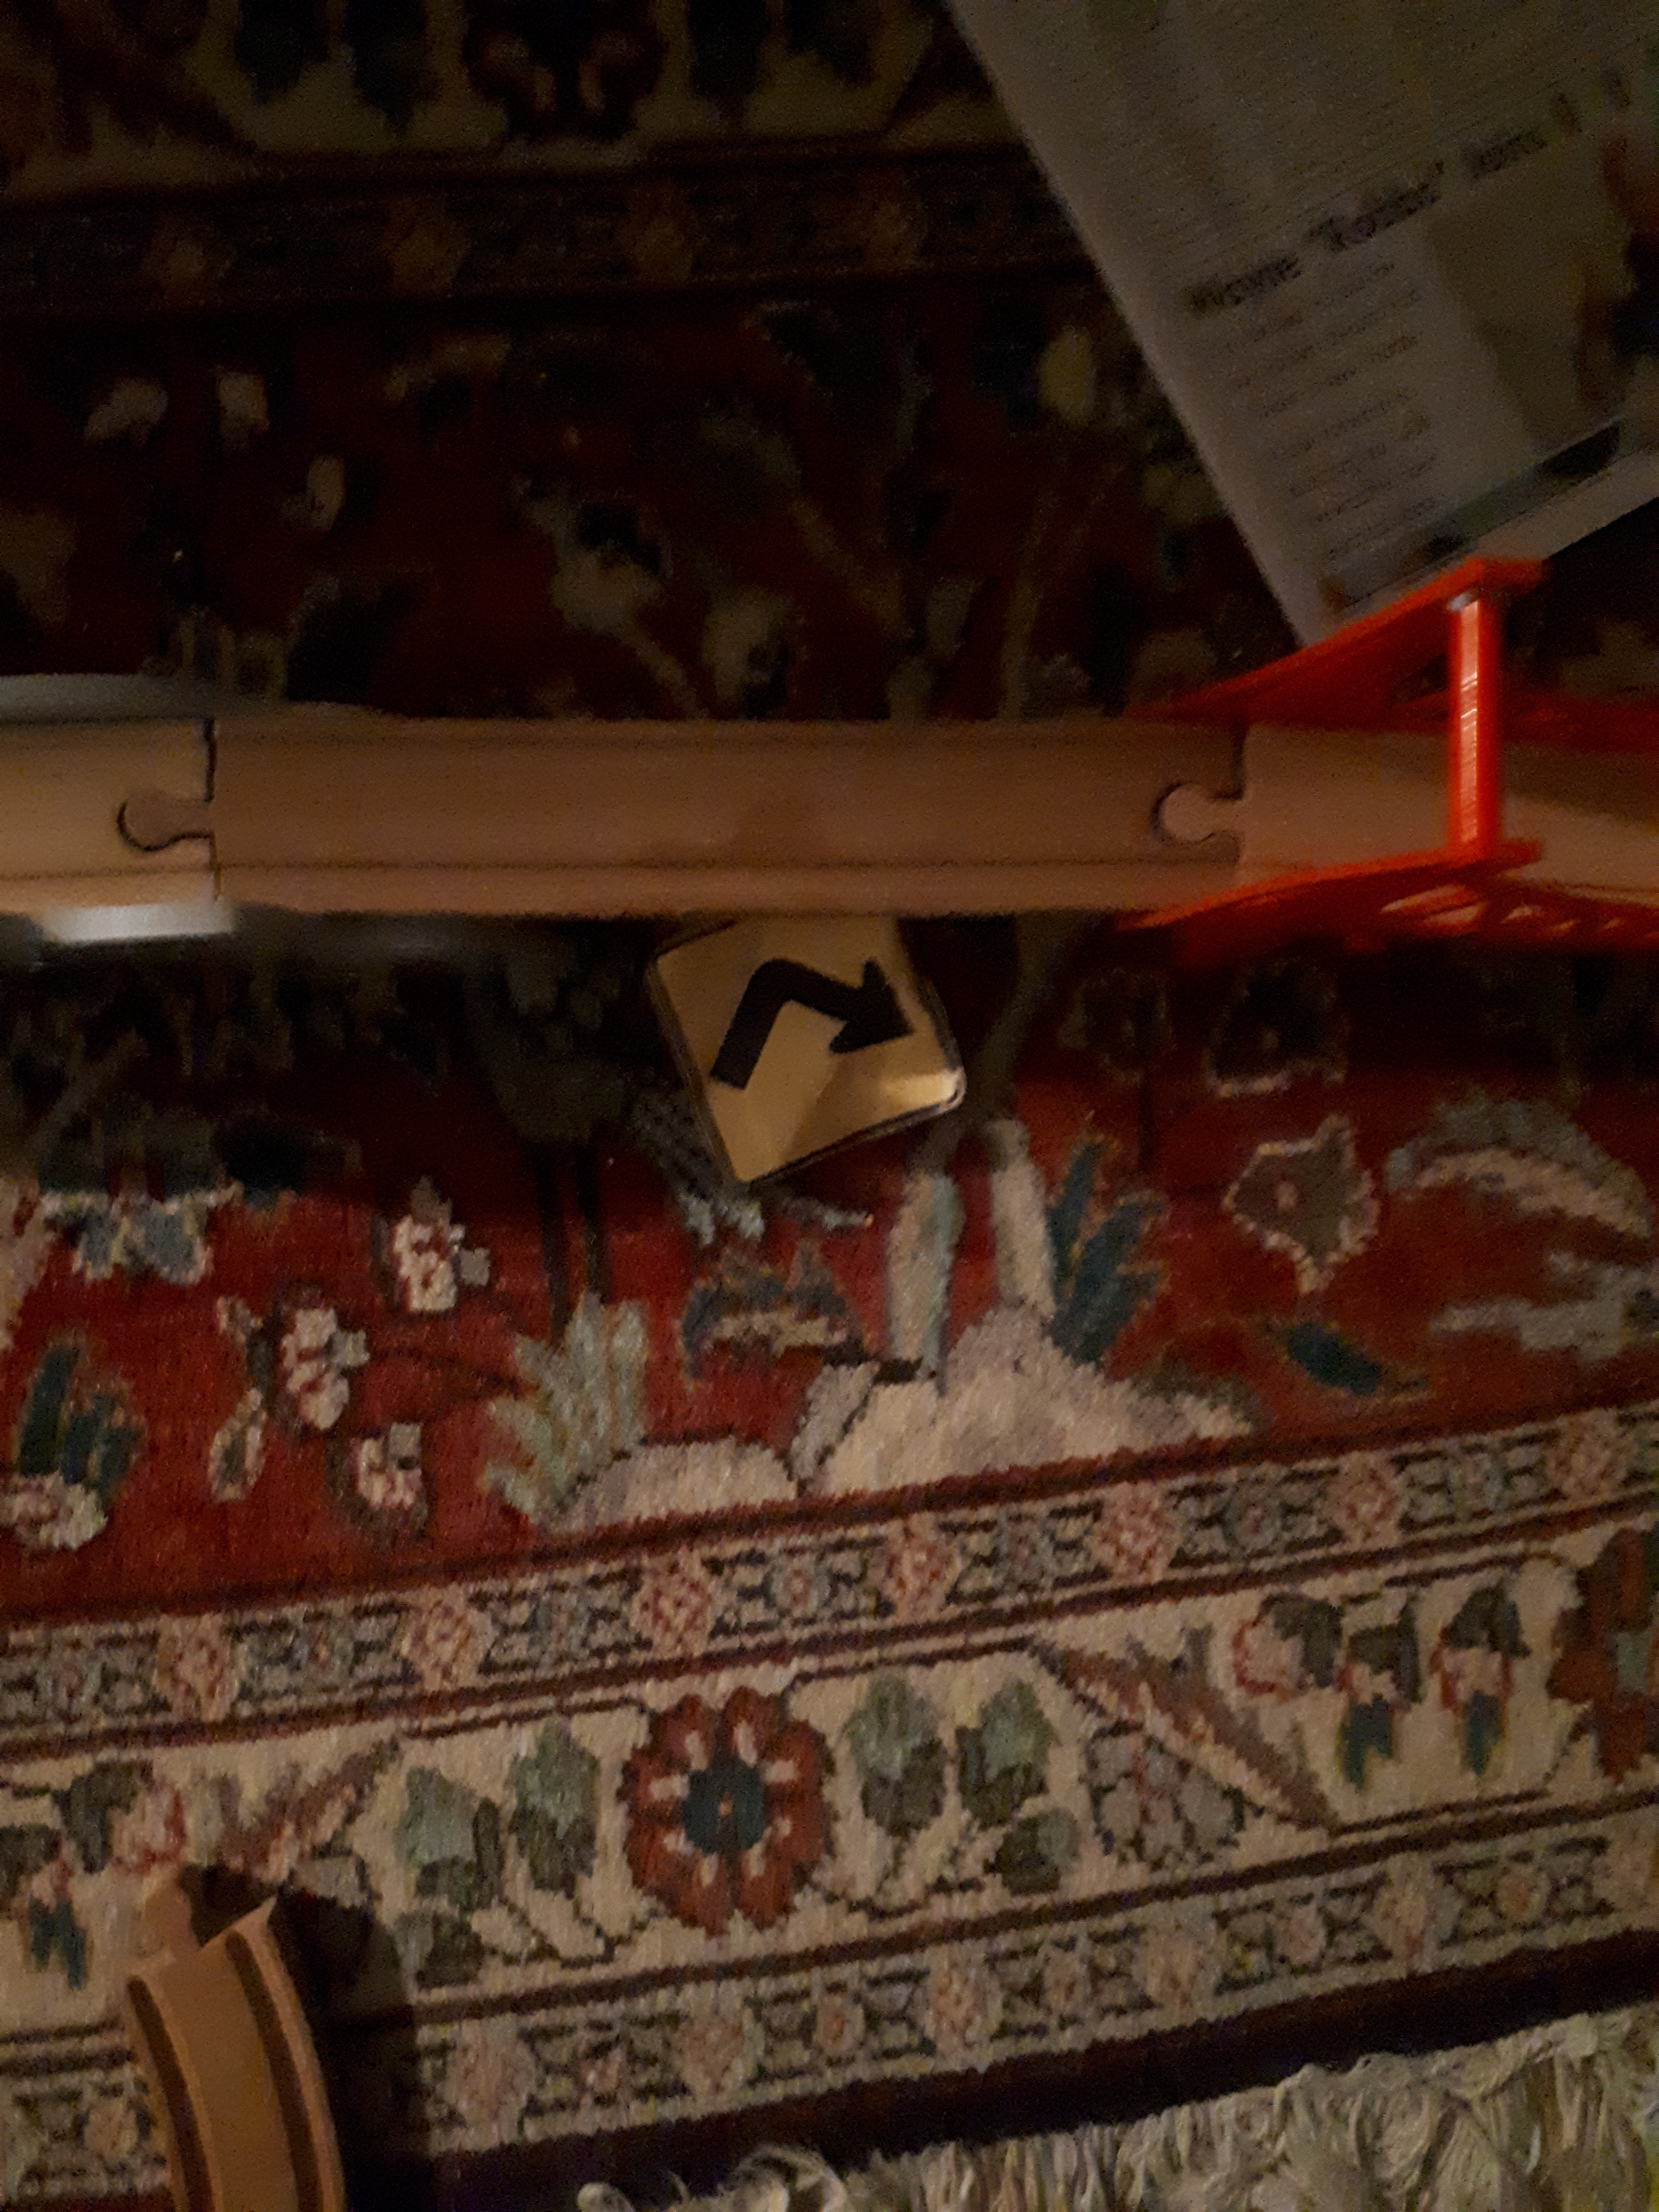right: (655, 906, 1012, 1242), (704, 909, 936, 1165), (734, 937, 955, 1120)
